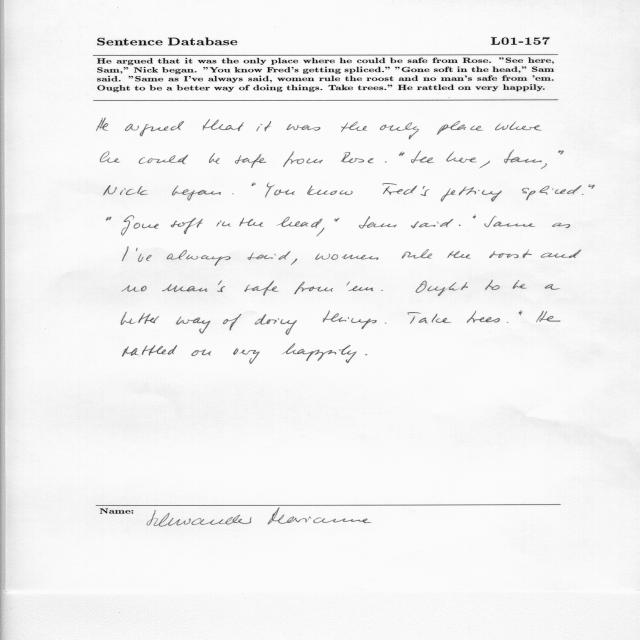word: (282, 344, 357, 363), (167, 250, 231, 266), (441, 186, 502, 202), (323, 311, 377, 329), (254, 314, 297, 335), (522, 186, 582, 201), (125, 121, 184, 136), (415, 281, 468, 296), (172, 185, 221, 201), (121, 216, 159, 236), (380, 123, 419, 140), (437, 121, 483, 135), (283, 151, 323, 167), (123, 345, 178, 356), (176, 317, 210, 334), (484, 216, 536, 227), (244, 280, 279, 296), (408, 312, 452, 324), (276, 217, 323, 228), (171, 218, 203, 234), (295, 282, 334, 295), (202, 119, 244, 131), (504, 150, 542, 163), (359, 216, 397, 229), (121, 312, 159, 325), (495, 121, 542, 131), (235, 153, 266, 168), (307, 185, 353, 195), (103, 185, 148, 195), (265, 183, 295, 198), (315, 253, 379, 260), (139, 155, 188, 164), (233, 348, 260, 364), (467, 310, 500, 323), (383, 183, 418, 195), (248, 251, 291, 260), (489, 250, 532, 259), (411, 219, 453, 228), (162, 284, 208, 292), (341, 152, 374, 163), (446, 152, 477, 163), (541, 250, 582, 258), (402, 249, 433, 259), (223, 314, 241, 331), (536, 311, 561, 323), (411, 151, 434, 163), (341, 122, 367, 132), (347, 282, 374, 291), (101, 151, 121, 163), (287, 124, 321, 131), (136, 248, 152, 262), (239, 218, 263, 227), (447, 251, 471, 259), (122, 285, 147, 292), (257, 121, 272, 131), (485, 280, 500, 290), (97, 118, 108, 131), (513, 280, 527, 289), (209, 153, 220, 164), (191, 350, 211, 356), (217, 220, 231, 227), (217, 280, 225, 292), (544, 284, 560, 290), (421, 186, 430, 196), (552, 223, 570, 228), (479, 161, 490, 169), (123, 247, 129, 261), (317, 228, 325, 237), (541, 163, 547, 169), (291, 259, 297, 265), (588, 184, 595, 189), (558, 150, 564, 155), (399, 152, 404, 157), (107, 217, 112, 221), (335, 218, 340, 222), (251, 183, 256, 186), (473, 215, 476, 219), (519, 311, 522, 315), (385, 161, 387, 163), (232, 194, 234, 195), (459, 225, 461, 226), (381, 290, 383, 291), (385, 322, 386, 324), (507, 322, 509, 323), (365, 354, 367, 355), (582, 194, 583, 195)
